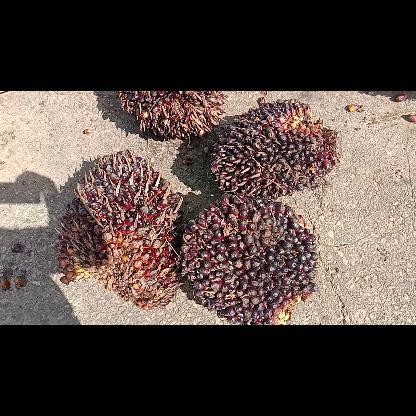TBS mentah: (54, 150, 188, 310), (181, 194, 317, 324), (209, 98, 339, 198), (117, 91, 226, 138)
